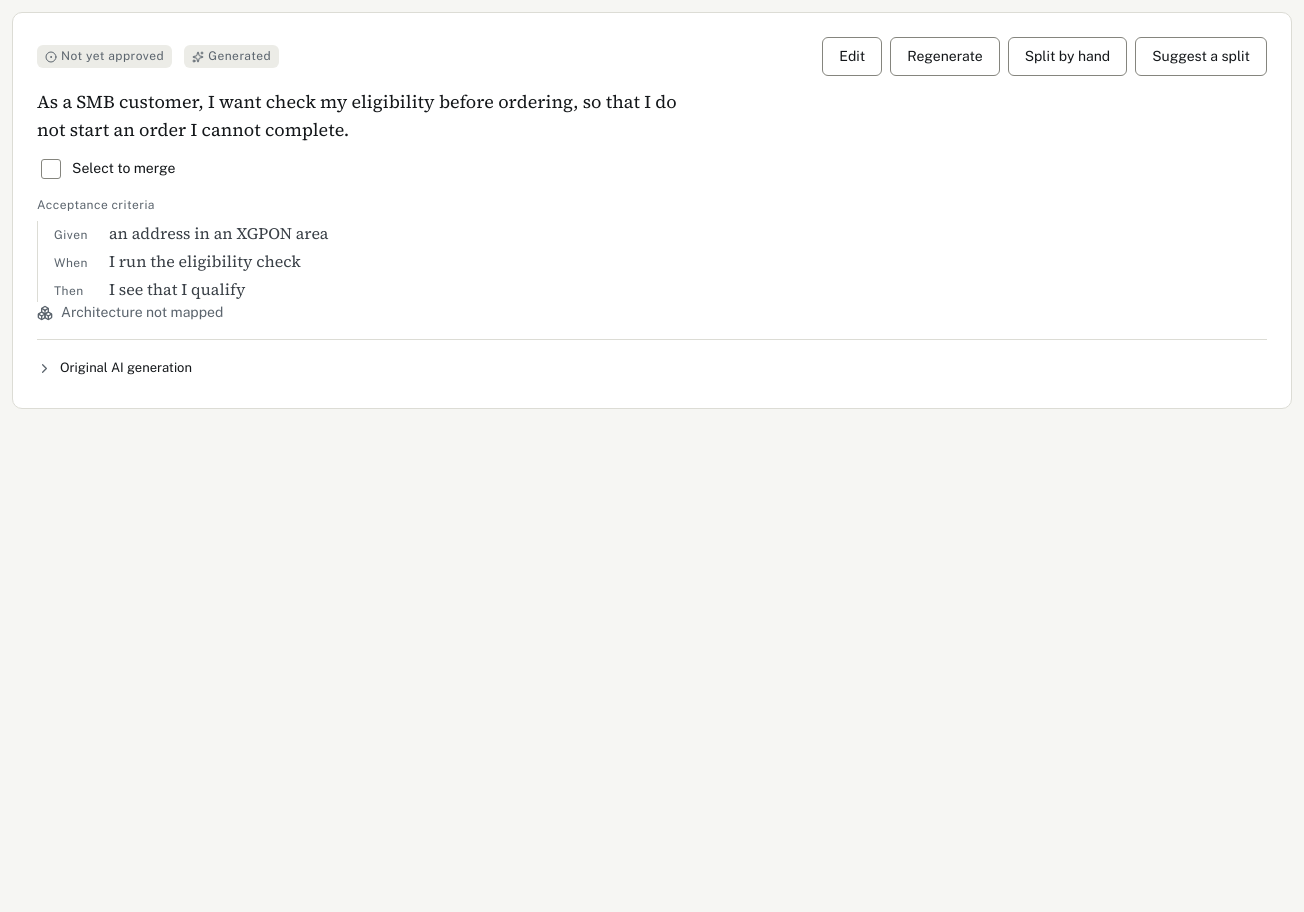
Scenario: StoryCard › rejects an edit that leaves no complete acceptance criterion
Click the button "Edit" at (852, 56), box [822,37,882,76]
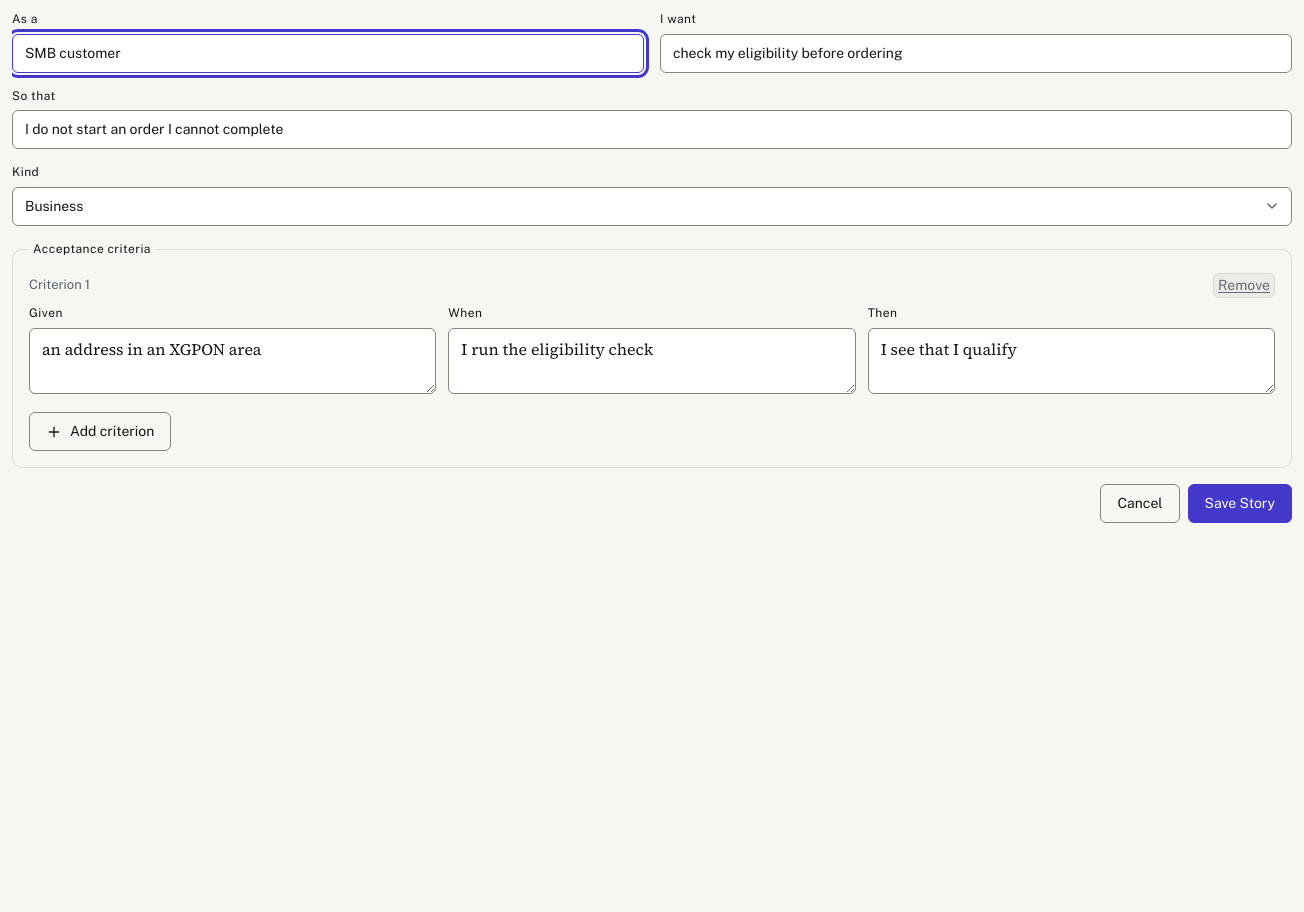
Clear the text box showing "an address in an XGPON area" at (233, 361), box [29,328,436,394]
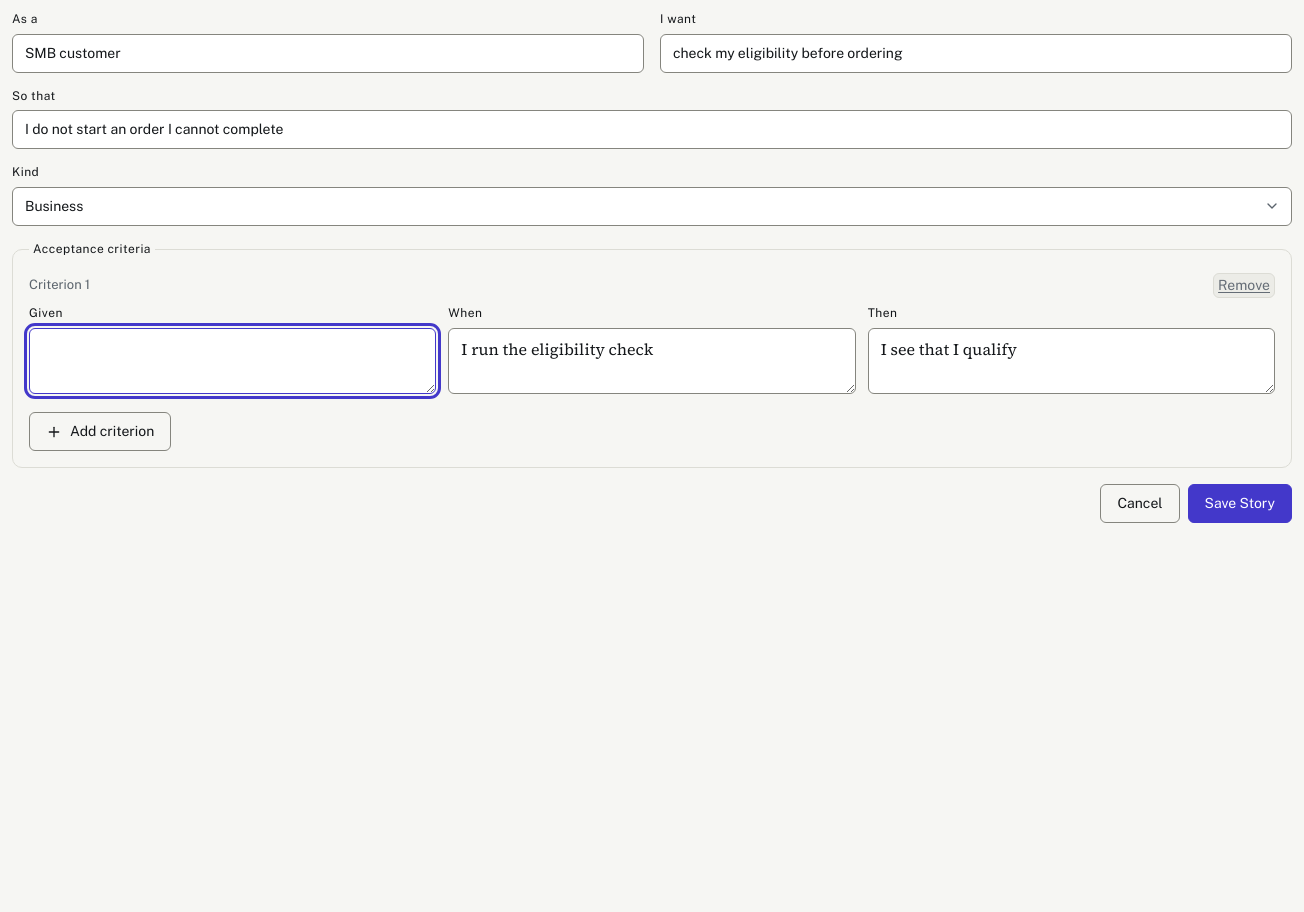
Clear the text box showing "I run the eligibility check" at (652, 361), box [448,328,856,394]
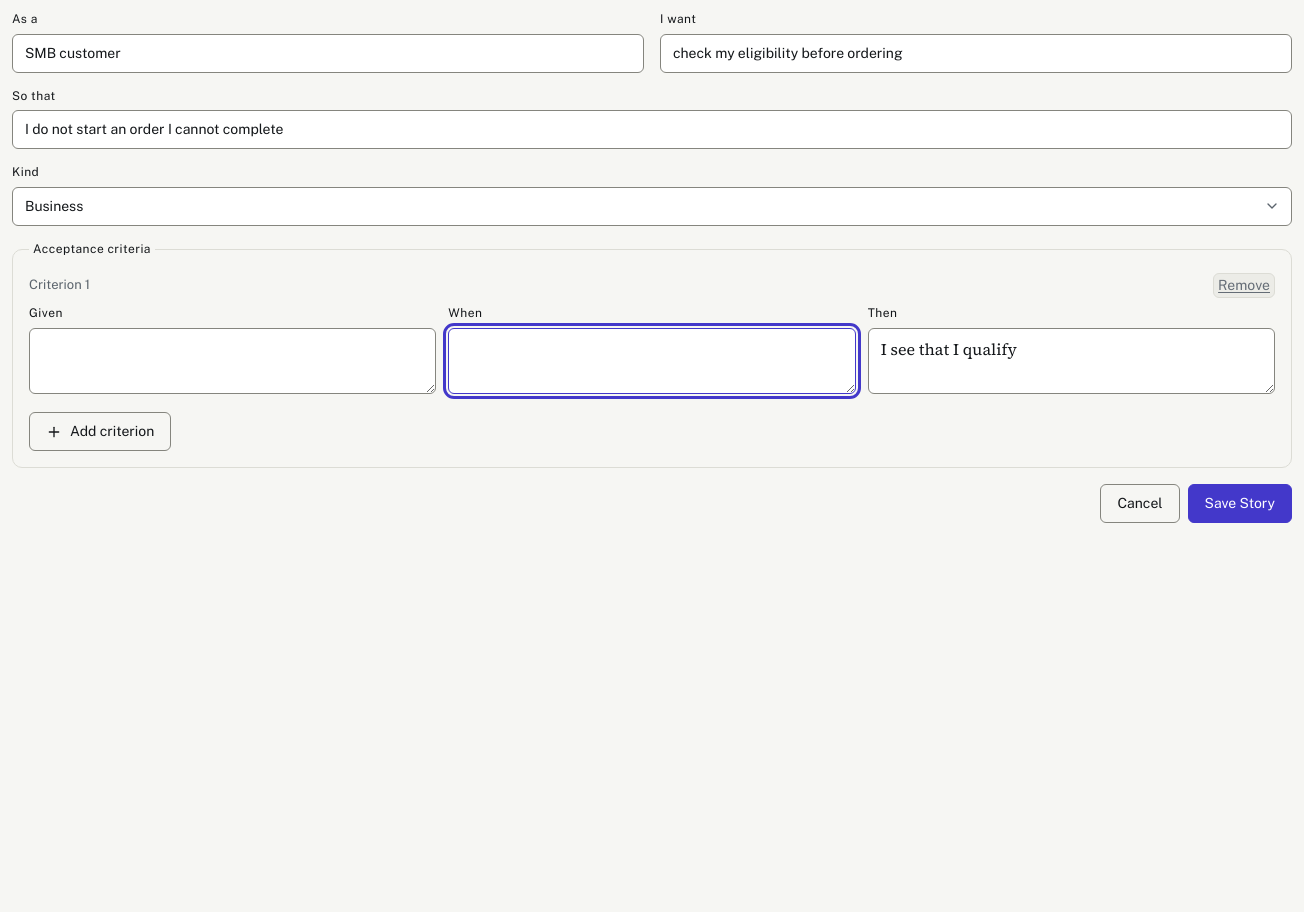
Clear the text box showing "I see that I qualify" at (1071, 361), box [868,328,1275,394]
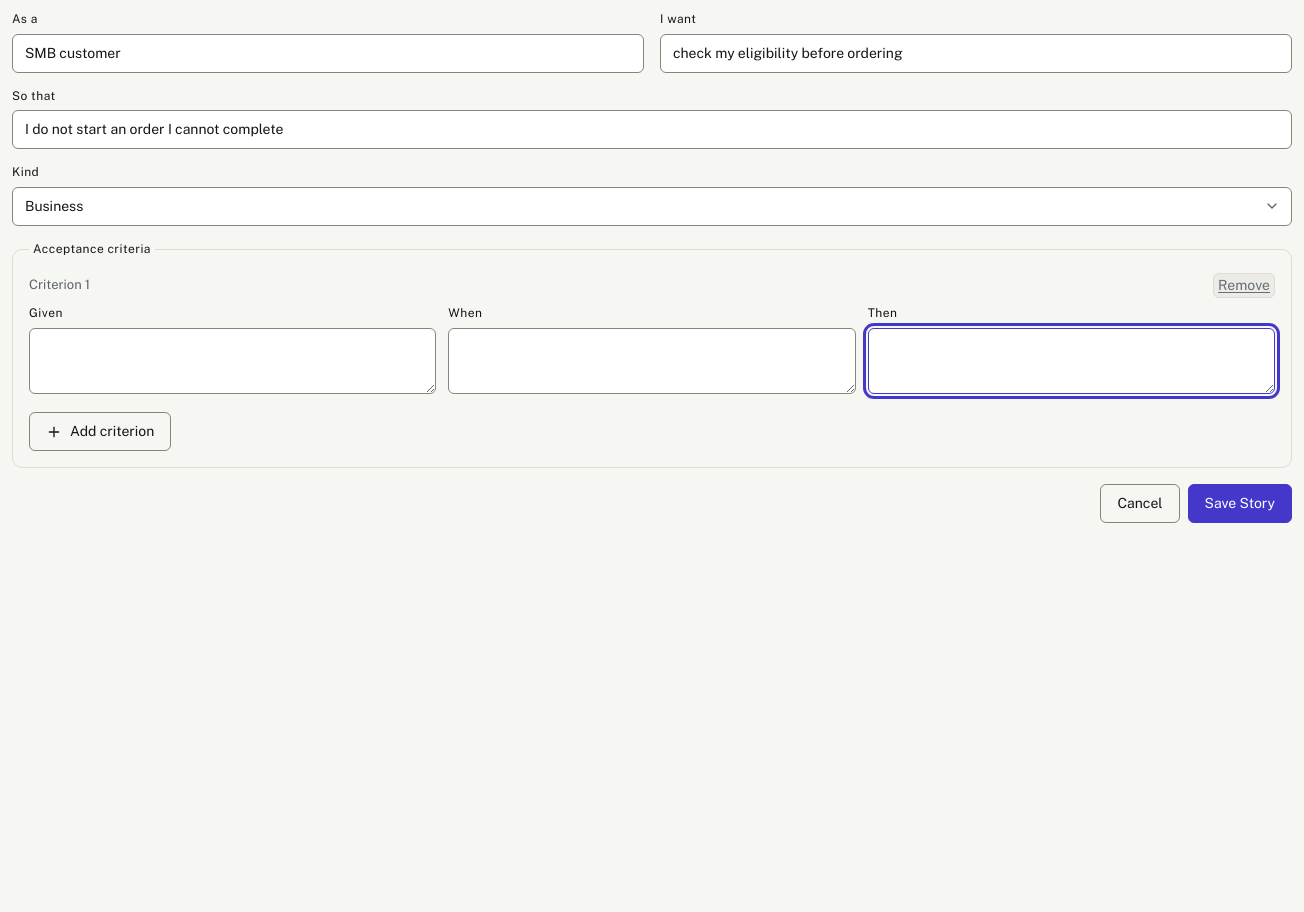
Click the button "Save Story" at (1240, 504), box [1188,484,1292,523]
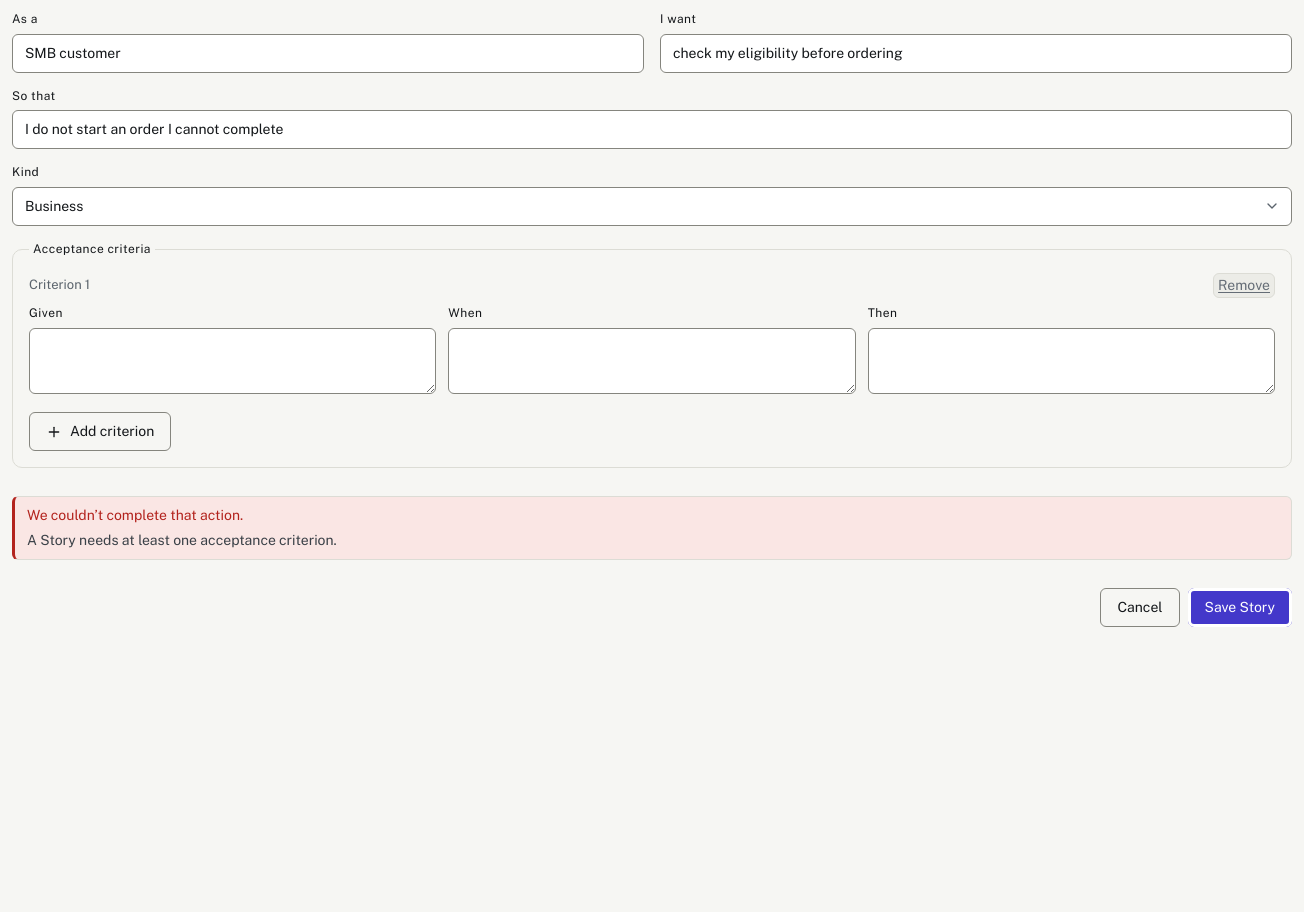
Now the text "A Story needs at least one acceptance criterion." is shown, box [27,532,337,548]
